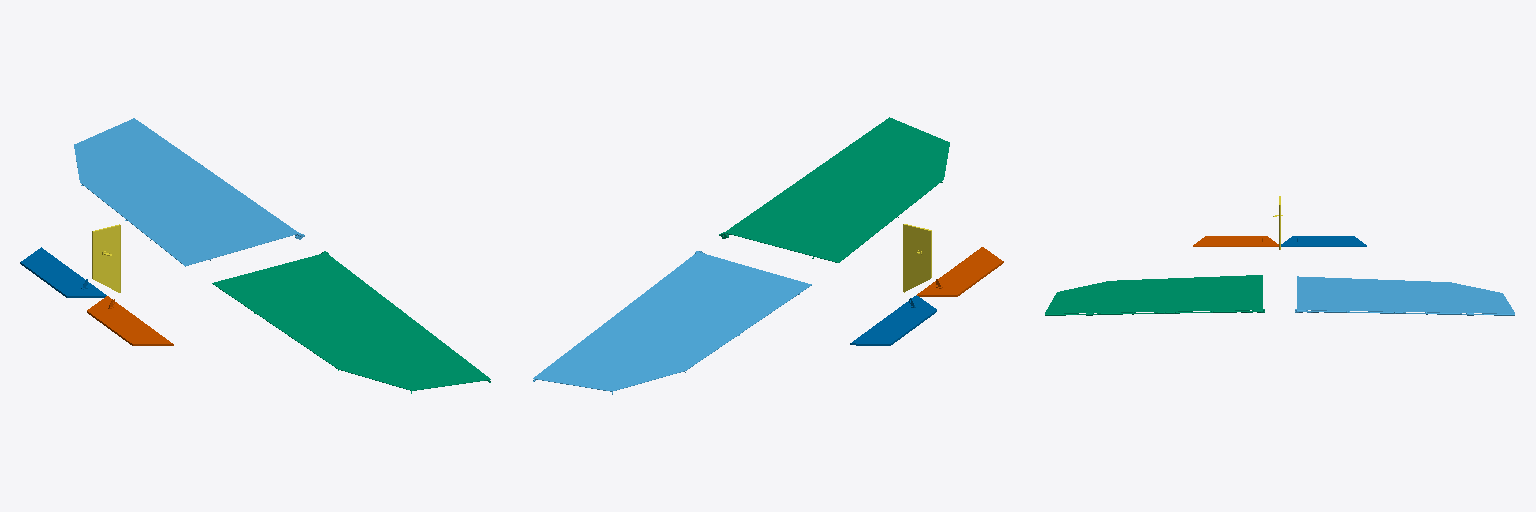
The robot description file, URDF, robot "flap_robot_552":
<?xml version="1.0" encoding="utf-8"?>
<robot name="flap_robot_552">
  <link name="base_link">
    <inertial>
      <origin xyz="-0.268394607909856 0.00141200156139687 0.00153525922958782" rpy="0 0 0" />
      <mass value="0.714026439267043" />
      <inertia
        ixx="0.00517846147494149"
        ixy="3.26674317083455E-07"
        ixz="3.13989099336596E-05"
        iyy="0.0008504087707054"
        iyz="2.0664970437578E-07"
        izz="0.00563402005323849"
      />
    </inertial>
    <visual>
      <origin xyz="0 0 0" rpy="0 0 0" />
      <geometry>
        <mesh filename="../meshes/base_link.STL" />
      </geometry>
    </visual>
    <collision>
      <origin xyz="0 0 0" rpy="0 0 0" />
      <geometry>
        <mesh filename="../meshes/base_link.STL" />
      </geometry>
    </collision>
  </link>
  <link name="left_wing">
    <inertial>
      <origin xyz="-0.121693766244801 0.335079846831415 -0.000151781561518644" rpy="0 0 0" />
      <mass value="0.220475127817923" />
      <inertia
        ixx="0.00859717403402959"
        ixy="-0.000568089023451442"
        ixz="-5.44611174288772E-05"
        iyy="0.00130494357007112"
        iyz="-2.35417964454592E-05"
        izz="0.00989731838206925"
      />
    </inertial>
    <visual>
      <origin xyz="0 0 0" rpy="0 0 0" />
      <geometry>
        <mesh filename="../meshes/left_wing.STL" />
      </geometry>
    </visual>
    <collision>
      <origin xyz="0 0 0" rpy="0 0 0" />
      <geometry>
        <mesh filename="../meshes/left_wing.STL" />
      </geometry>
    </collision>
  </link>
  <joint name="left_wing" type="revolute">
    <origin xyz="0 0.056 0" rpy="-0.019391 0 0" />
    <parent link="base_link" />
    <child link="left_wing" />
    <axis xyz="1 0 0" />
    <limit lower="-0.5233" upper="0.5233" effort="100" velocity="100" />
  </joint>
  <link name="right_wing">
    <inertial>
      <origin xyz="-0.121672083847681 -0.335079151614731 0.00231496225003322" rpy="0 0 0" />
      <mass value="0.220475855008907" />
      <inertia
        ixx="0.00859550030084913"
        ixy="0.000568448840468732"
        ixz="-2.80711722728553E-05"
        iyy="0.00130494357367585"
        iyz="1.20418033056429E-05"
        izz="0.00989899212666004"
      />
    </inertial>
    <visual>
      <origin xyz="0 0 0" rpy="0 0 0" />
      <geometry>
        <mesh filename="../meshes/right_wing.STL" />
      </geometry>
    </visual>
    <collision>
      <origin xyz="0 0 0" rpy="0 0 0" />
      <geometry>
        <mesh filename="../meshes/right_wing.STL" />
      </geometry>
    </collision>
  </link>
  <joint name="right_wing" type="revolute">
    <origin xyz="0 -0.056 0" rpy="0.019391 0 0" />
    <parent link="base_link" />
    <child link="right_wing" />
    <axis xyz="1 0 0" />
    <limit lower="-0.5233" upper="0.5233" effort="100" velocity="100" />
  </joint>
  <link name="rudder">
    <inertial>
      <origin xyz="-0.0319929881599962 -5.53085094838003E-05 0.0965720208320789" rpy="0 0 0" />
      <mass value="0.0531258284570821" />
      <inertia
        ixx="9.86251496952464E-05"
        ixy="7.44709708788816E-09"
        ixz="7.99233114886055E-06"
        iyy="0.000120889386285407"
        iyz="4.85286279663395E-15"
        izz="2.25461285718657E-05"
      />
    </inertial>
    <visual>
      <origin xyz="0 0 0" rpy="0 0 0" />
      <geometry>
        <mesh filename="../meshes/rudder.STL" />
      </geometry>
    </visual>
    <collision>
      <origin xyz="0 0 0" rpy="0 0 0" />
      <geometry>
        <mesh filename="../meshes/rudder.STL" />
      </geometry>
    </collision>
  </link>
  <joint name="rudder" type="revolute">
    <origin xyz="-0.5045 0 -0.00085" rpy="0 0 0" />
    <parent link="base_link" />
    <child link="rudder" />
    <axis xyz="0 0 1" />
    <limit lower="-0.725" upper="0.725" effort="10" velocity="10" />
  </joint>
  <link name="left_tail">
    <inertial>
      <origin xyz="-0.036473387455413 -0.000595688845036885 2.7783358521181E-05" rpy="0 0 0" />
      <mass value="0.105656479984979" />
      <inertia
        ixx="0.000592141156665208"
        ixy="-5.01483934085939E-08"
        ixz="-7.44172428252891E-09"
        iyy="5.83932705879102E-05"
        iyz="2.26183279586087E-11"
        izz="0.000650034879558944"
      />
    </inertial>
    <visual>
      <origin xyz="0 0 0" rpy="0 0 0" />
      <geometry>
        <mesh filename="../meshes/left_tail.STL" />
      </geometry>
    </visual>
    <collision>
      <origin xyz="0 0 0" rpy="0 0 0" />
      <geometry>
        <mesh filename="../meshes/left_tail.STL" />
      </geometry>
    </collision>
  </link>
  <joint name="left_tail" type="revolute">
    <origin xyz="-0.5365 0.15 -0.00335" rpy="0 0 0" />
    <parent link="base_link" />
    <child link="left_tail" />
    <axis xyz="0 1 0" />
    <limit lower="-0.725" upper="0.725" effort="10" velocity="10" />
  </joint>
  <link name="right_tail">
    <inertial>
      <origin xyz="-0.0364733874554128 0.000595688845036885 2.78118045927908E-05" rpy="0 0 0" />
      <mass value="0.105656479984979" />
      <inertia
        ixx="0.000592141156665208"
        ixy="5.01483934086392E-08"
        ixz="-7.45247136580829E-09"
        iyy="5.83932705879103E-05"
        iyz="2.26183279562006E-11"
        izz="0.000650034879558944"
      />
    </inertial>
    <visual>
      <origin xyz="0 0 0" rpy="0 0 0" />
      <geometry>
        <mesh filename="../meshes/right_tail.STL" />
      </geometry>
    </visual>
    <collision>
      <origin xyz="0 0 0" rpy="0 0 0" />
      <geometry>
        <mesh filename="../meshes/right_tail.STL" />
      </geometry>
    </collision>
  </link>
  <joint name="right_tail" type="revolute">
    <origin xyz="-0.5365 -0.15 -0.00335" rpy="0 0 0" />
    <parent link="base_link" />
    <child link="right_tail" />
    <axis xyz="0 1 0" />
    <limit lower="-0.725" upper="0.725" effort="10" velocity="10" />
  </joint>
</robot>

--- What the picture shows (computed from the rendered views, not written in the file) ---
The picture shows the robot from 3 angles, left to right: view 1: azimuth 30°, elevation 25°; view 2: azimuth 150°, elevation 25°; view 3: azimuth 270°, elevation 25°; orthographic projection.
Model flap_robot_552 with 6 links and 5 joints (5 revolute), rooted at base_link, posed every joint at zero.
Links seen in each view (by area): view 1: right_wing, left_wing, left_tail, right_tail, rudder; view 2: left_wing, right_wing, left_tail, right_tail, rudder; view 3: right_wing, left_wing, left_tail, right_tail.
Boxes of the visible links, x1,y1,x2,y2 form: right_wing: (212, 251, 490, 393); left_wing: (74, 118, 304, 266); left_tail: (20, 247, 106, 297); right_tail: (87, 296, 173, 345); rudder: (92, 224, 120, 292); left_wing: (533, 251, 811, 394); right_wing: (719, 117, 949, 262); left_tail: (850, 295, 936, 345); right_tail: (917, 247, 1003, 296); rudder: (903, 224, 931, 292); right_wing: (1045, 275, 1264, 315); left_wing: (1295, 276, 1514, 315); left_tail: (1281, 236, 1366, 246); right_tail: (1193, 236, 1278, 246).
Bounding box of the posed robot: 0.6275 × 1.62 × 0.194 m (x, y, z).
5 mesh visuals loaded from 6 distinct referenced files (5 binary STL); not drawn: 1 (reference not matched to a file when rendering).
